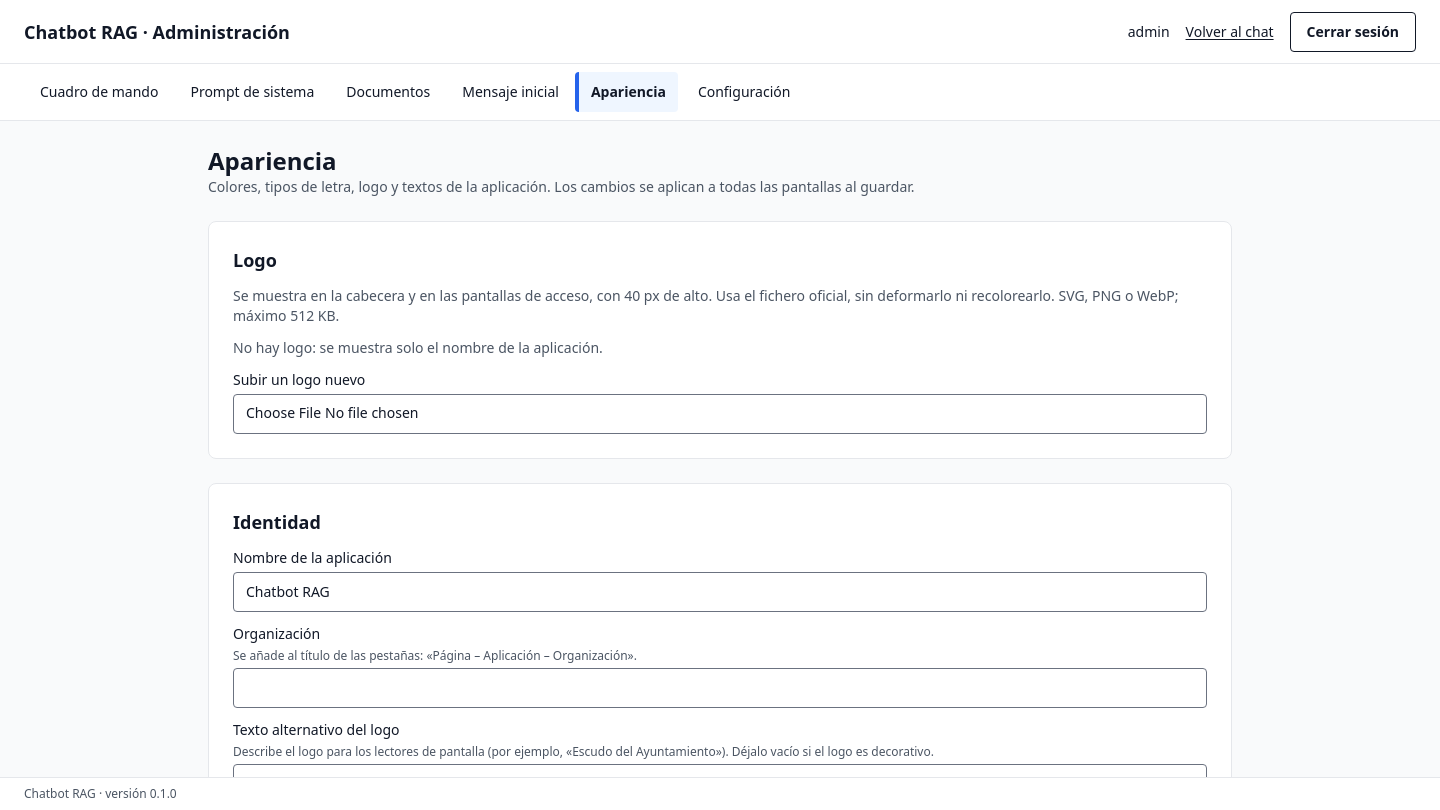
Test: AppearancePage › guarda identidad, cabecera, tipos de letra y textos
Replace the text in the field labelled "Nombre de la aplicación" with "Asistente". click: (720, 592)
box: [233,572,1207,612]
Type "Ayuntamiento de Ejemplo" into the field labelled "Organización". click: (720, 688)
box: [233,668,1207,708]
(page scrolled)
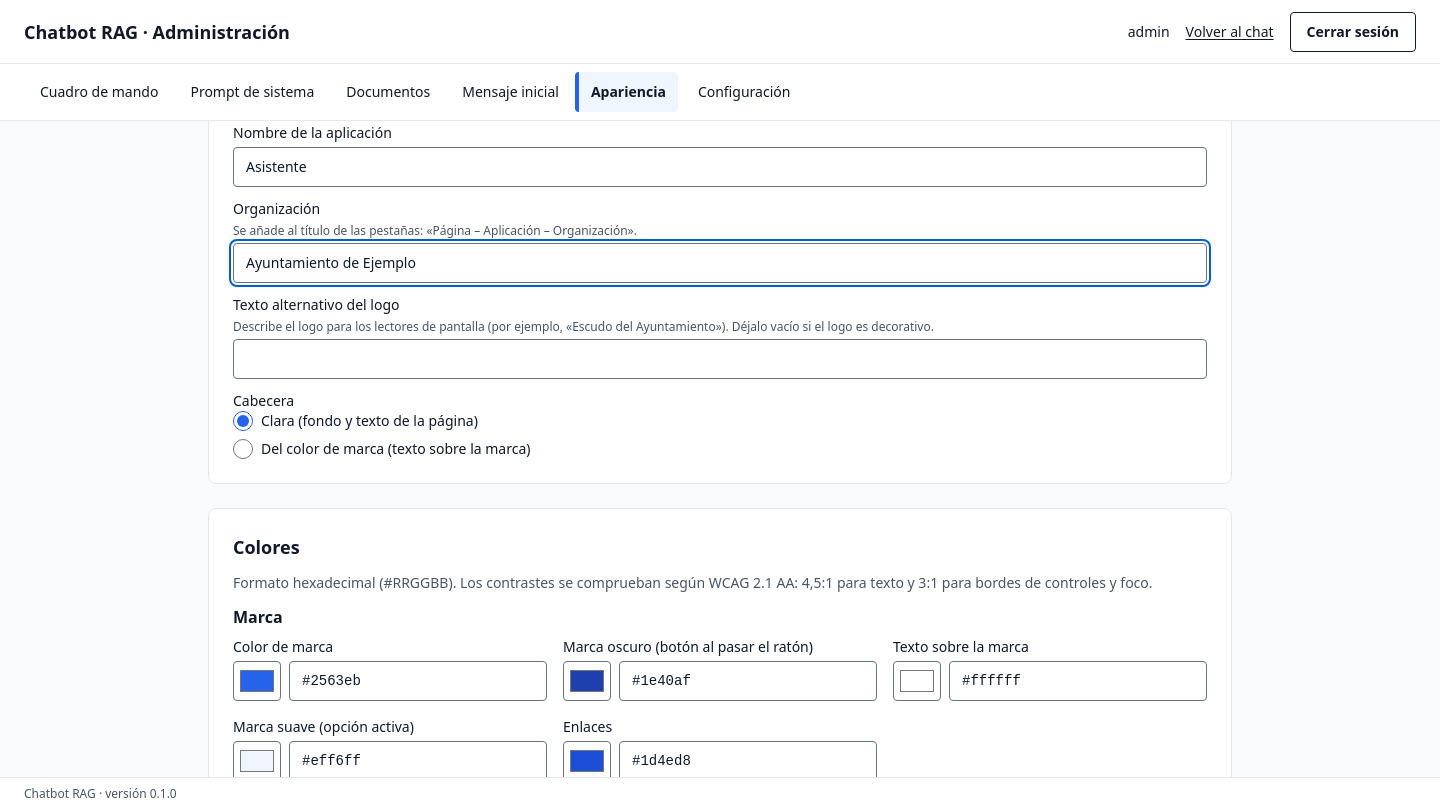
Click the radio button labelled "Del color de marca (texto sobre la marca)". click: (243, 449)
box: [233,439,253,459]
(page scrolled)
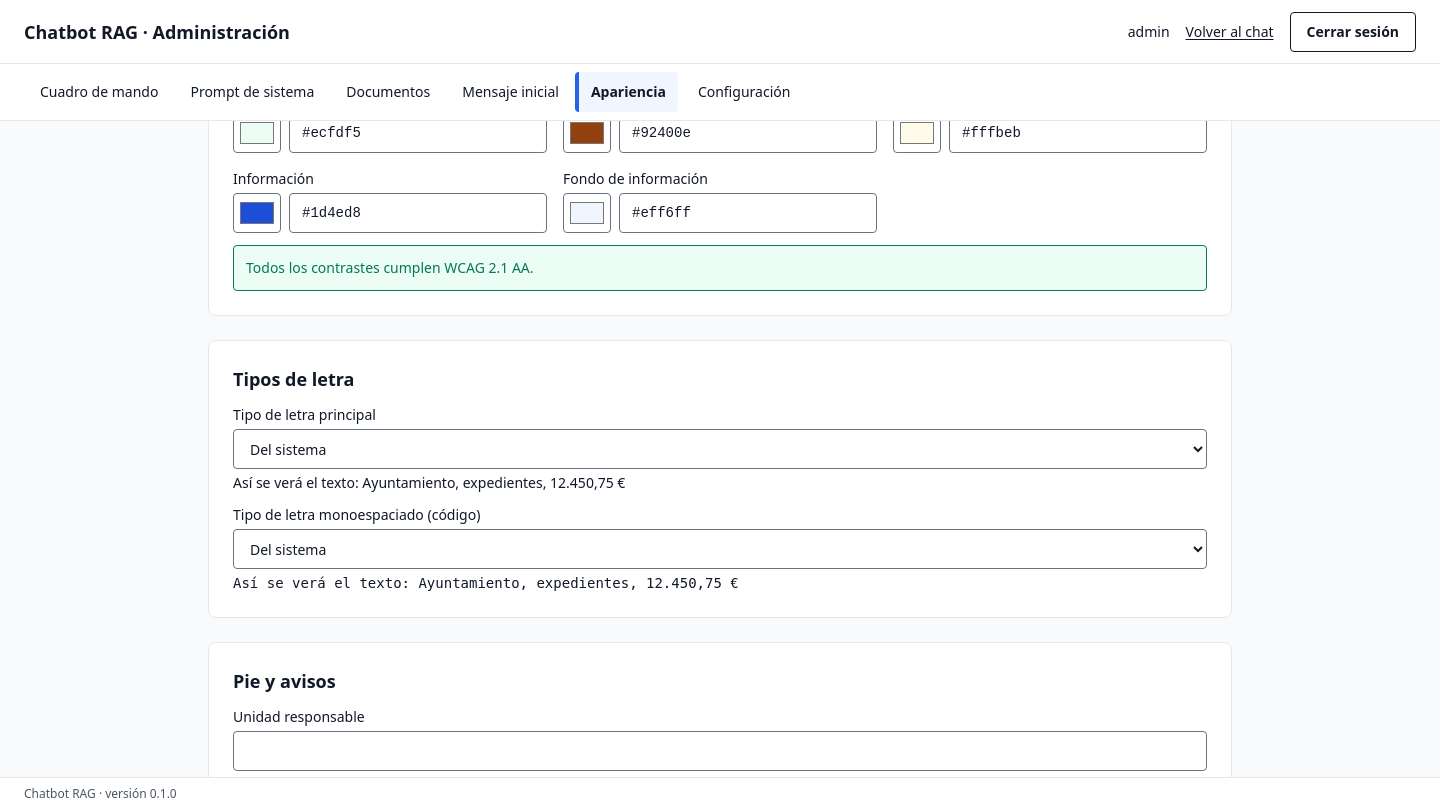
Select "Trebuchet MS" in the dropdown labelled "Tipo de letra principal". click: (720, 449)
box: [233,429,1207,469]
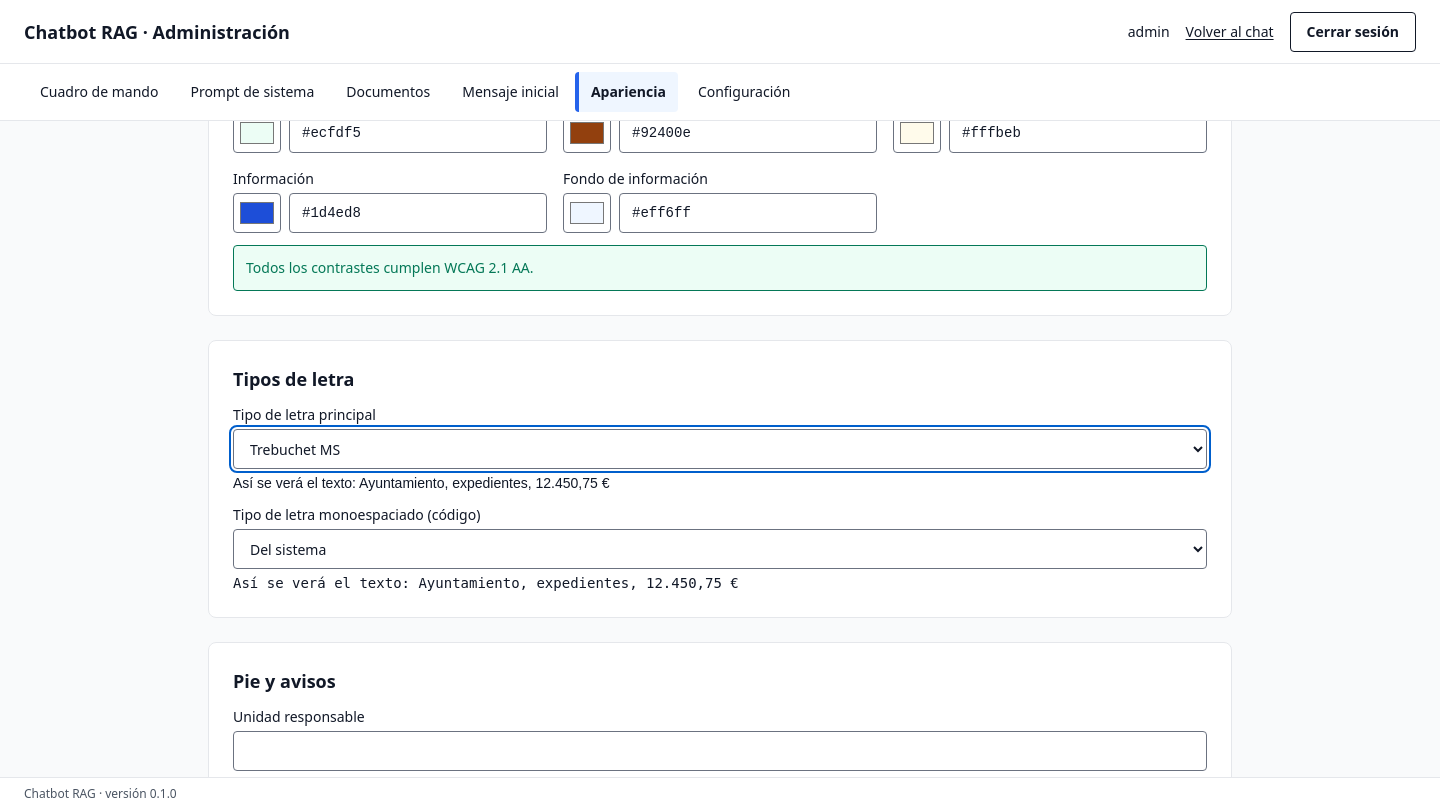
Type "Informática" into the field labelled "Unidad responsable". click: (720, 751)
box: [233,731,1207,771]
(page scrolled)
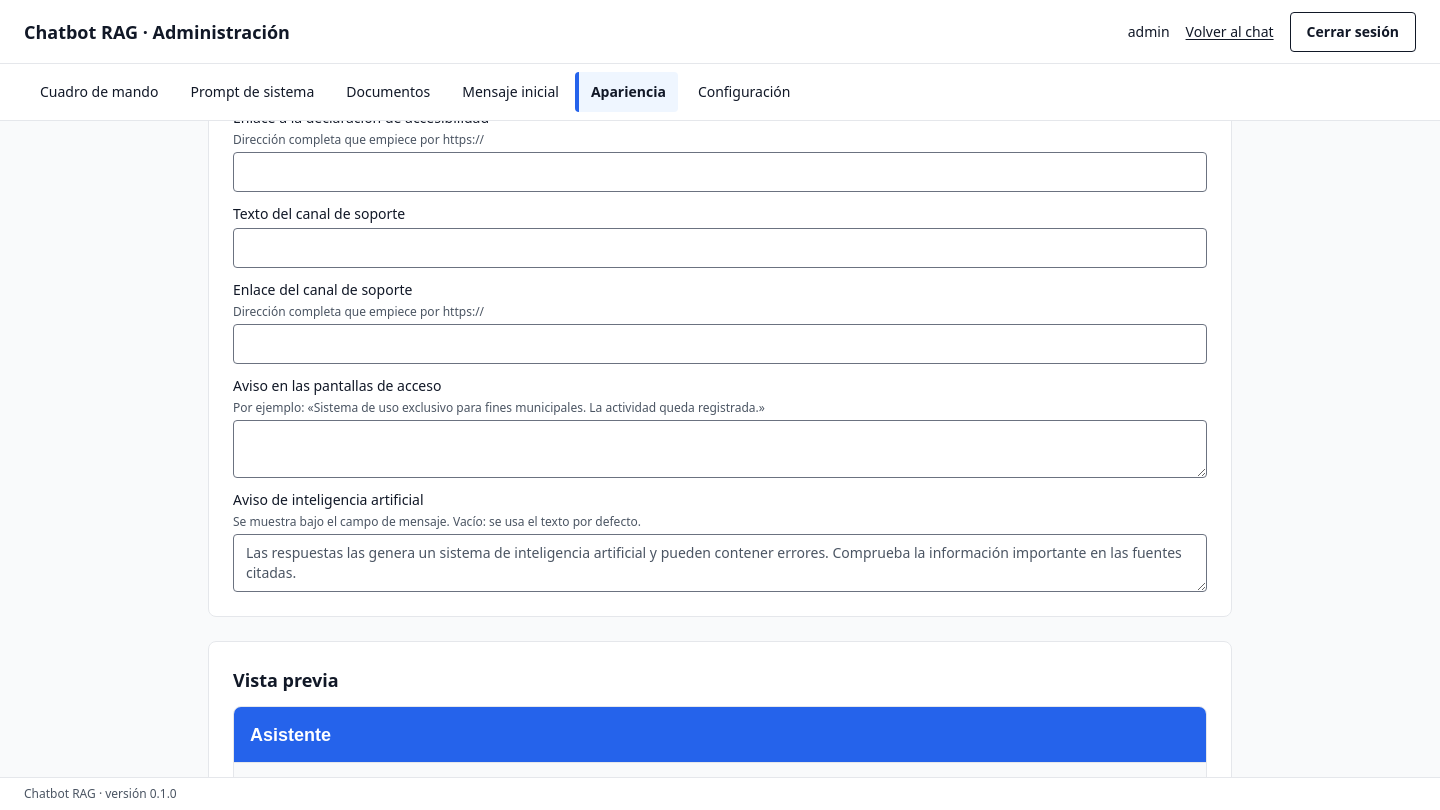
Type "Uso exclusivo municipal." into the text box labelled "Aviso en las pantallas de acceso". click: (720, 449)
box: [233,420,1207,478]
(page scrolled)
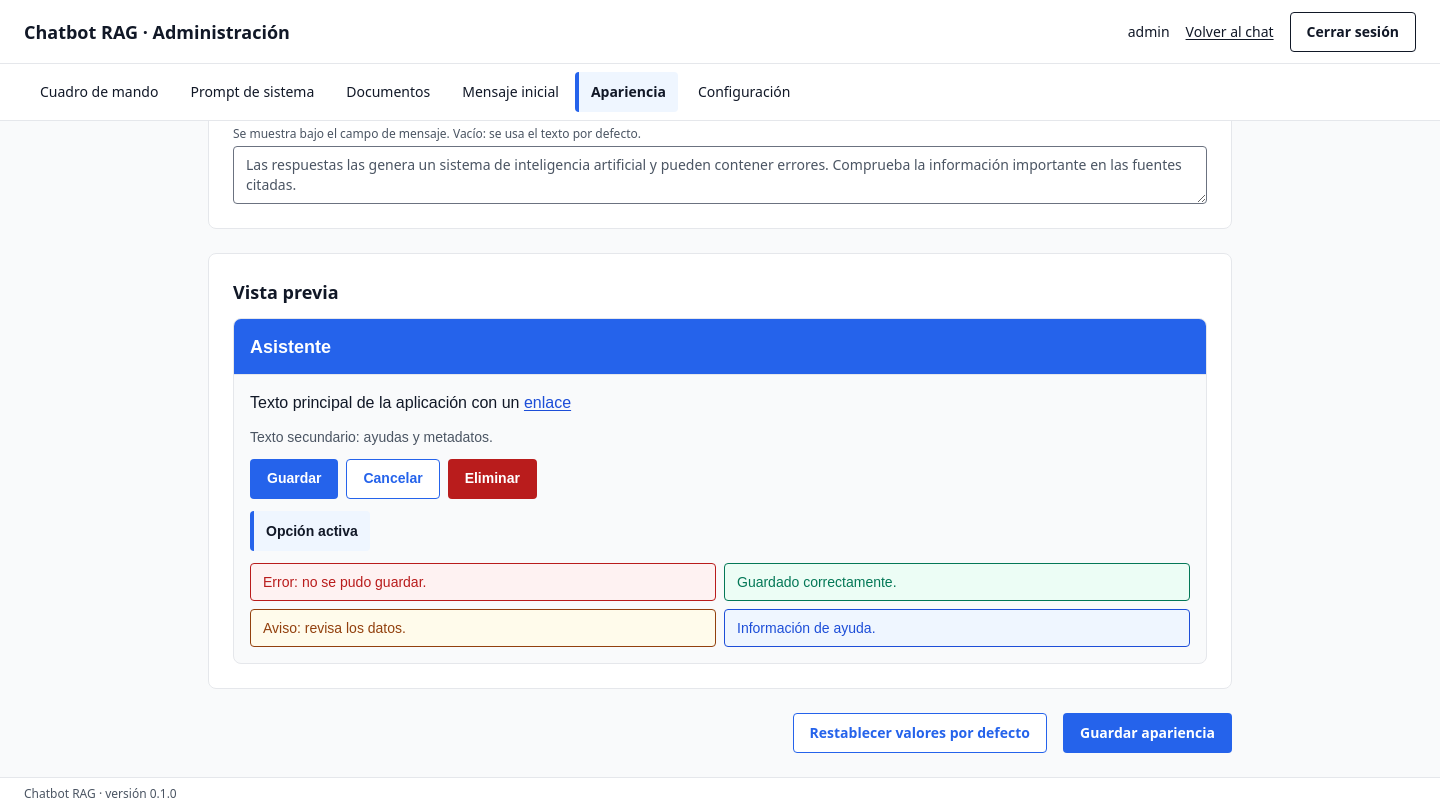
Click the button "Guardar apariencia". click: (1148, 733)
box: [1063,713,1232,753]
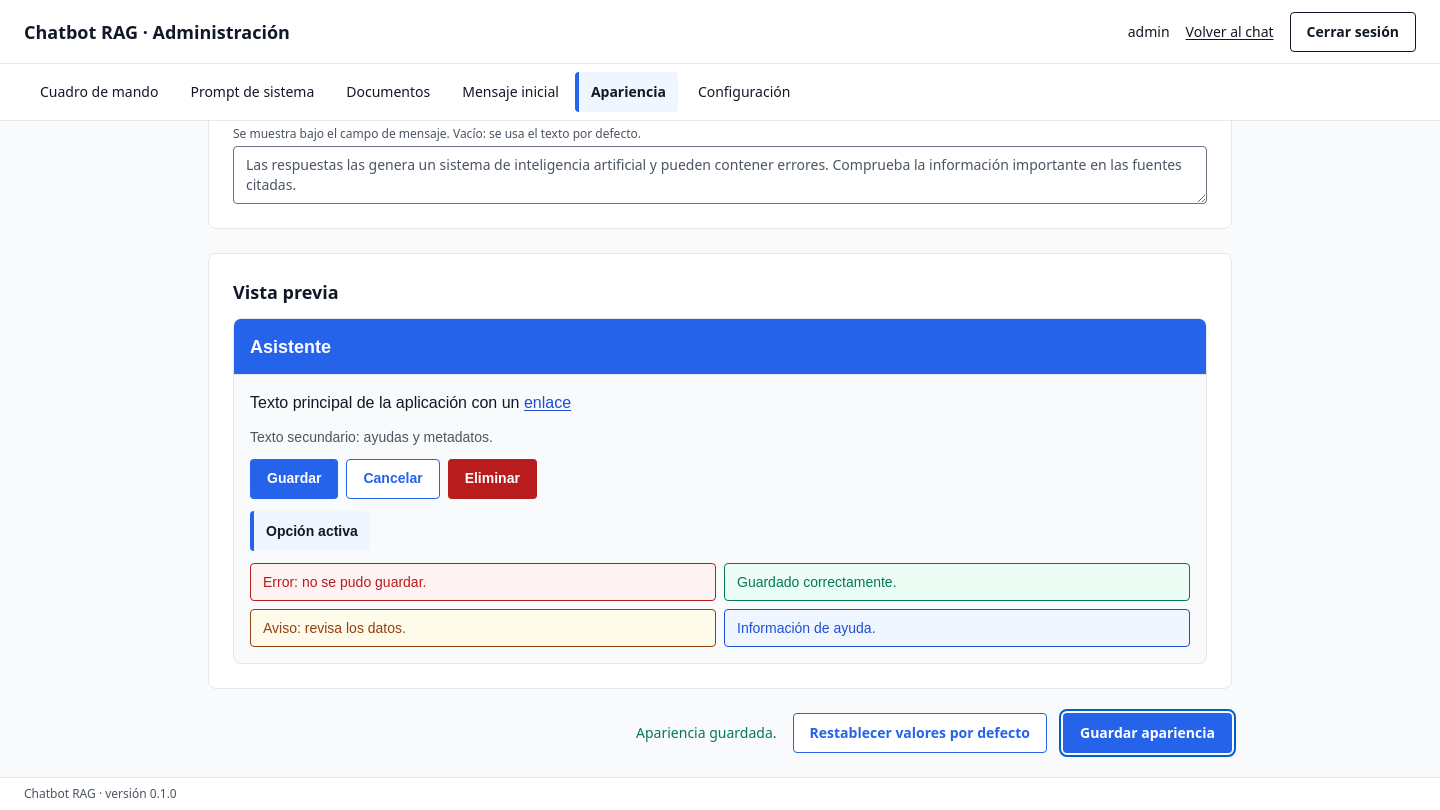
Check: the text "Apariencia guardada." is shown, box [636,723,776,743]
